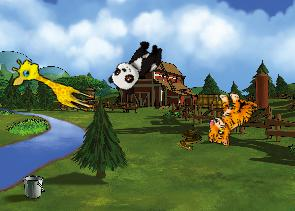giraffe: (6, 55, 101, 114)
panda: (105, 33, 168, 99)
tiger: (204, 88, 259, 150)
